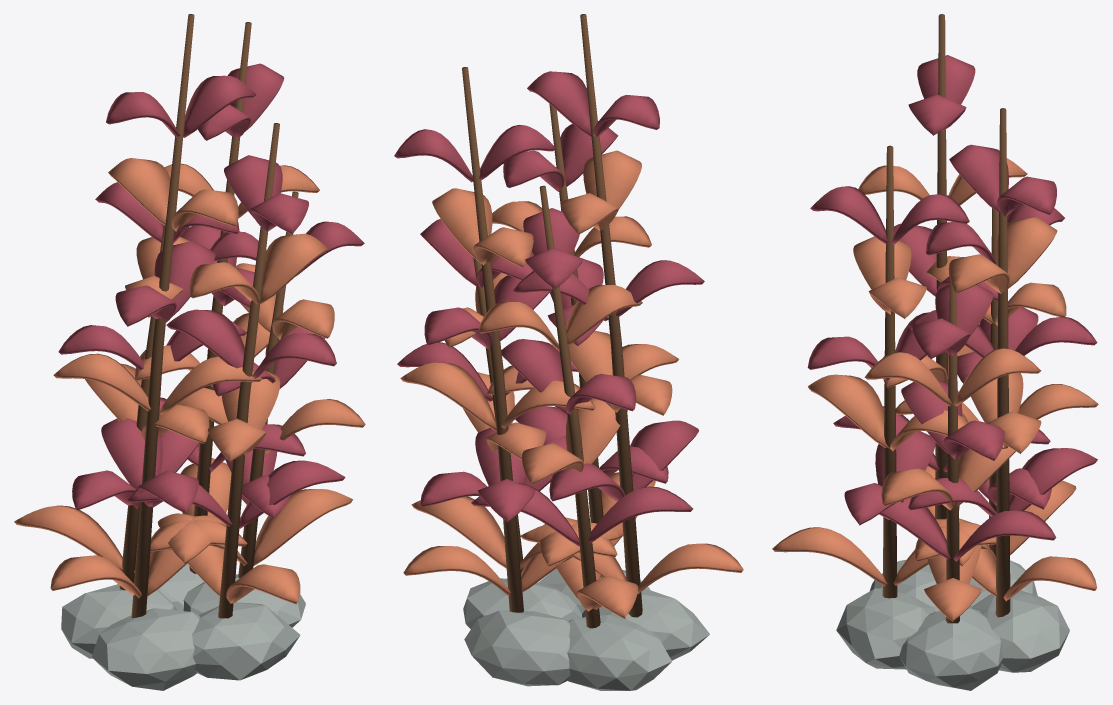
Rendered from red-stem-plant.glb.
3 views of the same model, side by side, from view 1: azimuth 30°, elevation 25°; view 2: azimuth 150°, elevation 25°; view 3: azimuth 270°, elevation 25° (orthographic).
Visible parts, largest first — view 1: Root pebble.003, Root pebble.004, Burgundy stem.004, Burgundy stem.002, Root pebble.002, Copper leaf, Copper leaf.012, Copper leaf.033, Copper leaf.030, Copper leaf.056, Copper leaf.051, Copper leaf.026 (+56 smaller); view 2: Root pebble.001, Root pebble.002, Burgundy stem.004, Burgundy stem.003, Burgundy stem.001, Root pebble.003, Root pebble, Copper leaf, Copper leaf.041, Copper leaf.059, Copper leaf.050, Copper leaf.044 (+51 smaller); view 3: Root pebble, Root pebble.004, Root pebble.001, Burgundy stem.003, Burgundy stem.002, Copper leaf.029, Burgundy stem, Copper leaf.024, Copper leaf.045, Burgundy stem.004, Copper leaf.038, Copper leaf.047 (+47 smaller).
Boxes of the visible parts, x1,y1,x2,y2 form: Root pebble.003: (91,608,199,690); Root pebble.004: (192,602,300,680); Burgundy stem.004: (131,14,194,618); Burgundy stem.002: (218,123,279,618); Root pebble.002: (61,584,177,658); Copper leaf: (253,489,352,566); Copper leaf.012: (14,505,122,570); Copper leaf.033: (260,233,328,303); Copper leaf.030: (166,309,244,368); Copper leaf.056: (108,158,170,225); Copper leaf.051: (101,418,162,489); Copper leaf.026: (239,460,345,528); Root pebble.001: (464,610,570,686); Root pebble.002: (567,614,671,690); Burgundy stem.004: (580,14,642,617); Burgundy stem.003: (462,67,523,612); Burgundy stem.001: (539,185,600,628); Root pebble.003: (582,588,709,660); Root pebble: (463,578,582,628); Copper leaf: (411,496,506,568); Copper leaf.041: (400,362,496,430); Copper leaf.059: (527,71,591,136); Copper leaf.050: (630,420,698,490); Copper leaf.044: (432,188,492,263); Root pebble: (899,608,1002,690); Root pebble.004: (836,588,935,669); Root pebble.001: (971,590,1069,672); Burgundy stem.003: (995,108,1010,617); Burgundy stem.002: (882,145,897,598); Copper leaf.029: (808,374,888,448); Burgundy stem: (945,278,959,623); Copper leaf.024: (772,527,887,586); Copper leaf.045: (996,217,1057,289); Burgundy stem.004: (935,14,947,519); Copper leaf.038: (1009,448,1097,510); Copper leaf.047: (949,144,1008,212).
Bounding box in the file's own units: 1.15 × 2.24 × 1.03.
